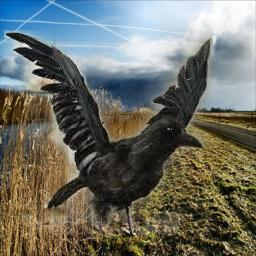Crow: (5, 31, 214, 236)
